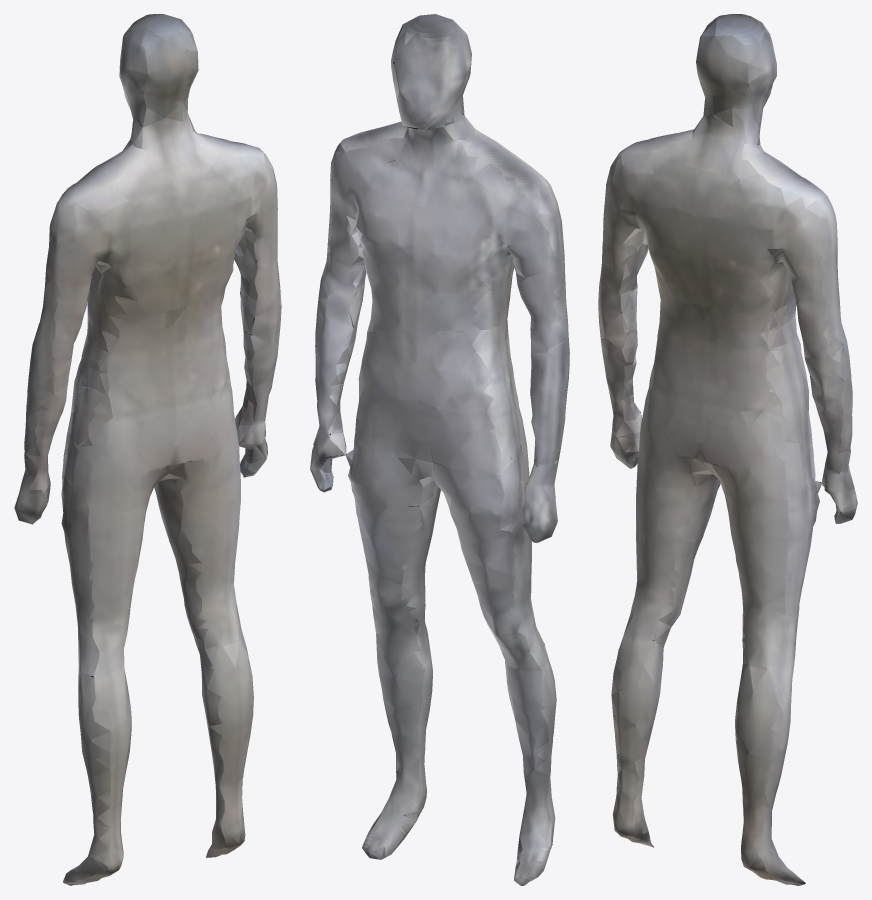
File: tmpm90xgy0x.glb
3 views of the same model, side by side, from view 1: azimuth 30°, elevation 25°; view 2: azimuth 150°, elevation 25°; view 3: azimuth 330°, elevation 25° (orthographic).
Visible parts, largest first — view 1: world; view 2: world; view 3: world.
Boxes of the visible parts, <box> form: world: <box>14,14,281,885</box>; world: <box>310,14,569,885</box>; world: <box>598,14,857,885</box>.
Bounding box in the file's own units: 0.296 × 0.9585 × 0.1223.
1 material, 1 textured.
